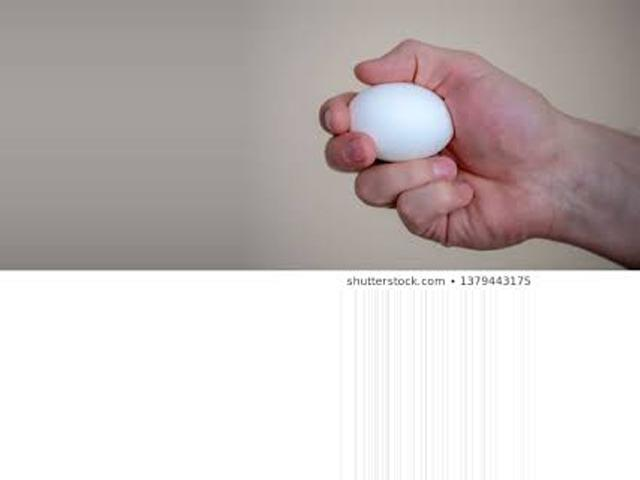egg: (349, 82, 455, 160)
